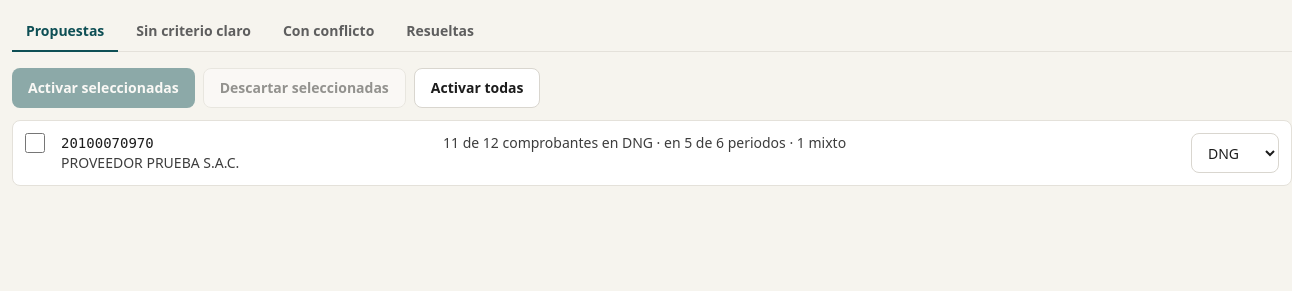
Test case: <CandidatasImportadas /> · activar y descartar (CA-3, D-5) › activar una sola con su destino propuesto: el enlace de U-6 filtra por ese proveedor
Step 1. Click the checkbox named "Seleccionar candidata de 20100070970" → coordinates (35, 143), box [25,133,45,153]
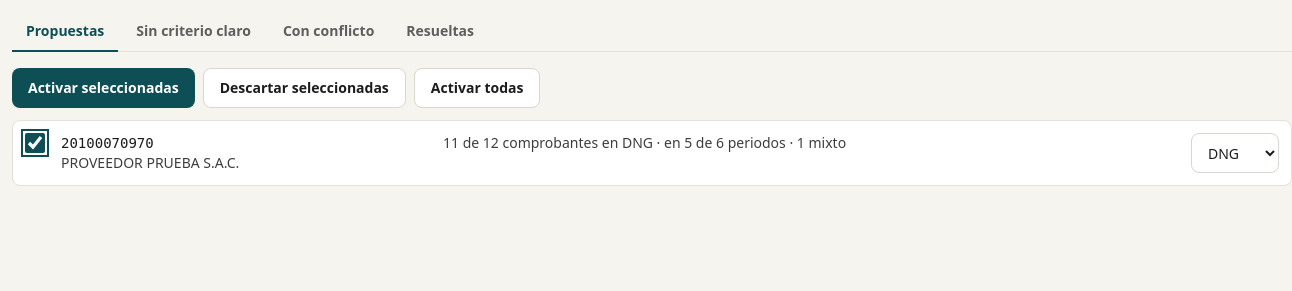
Step 2. Click the button "Activar seleccionadas" → coordinates (103, 88), box [12,68,195,108]
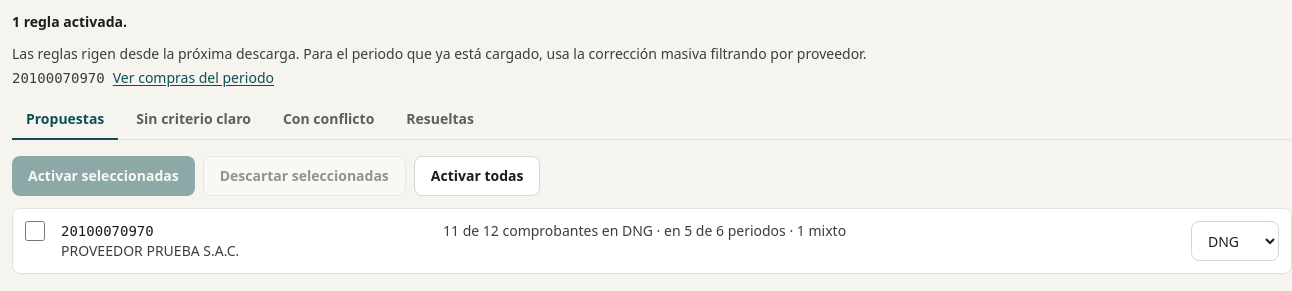
Expected: the text "1 regla activada." is shown, [12,12,127,31]
